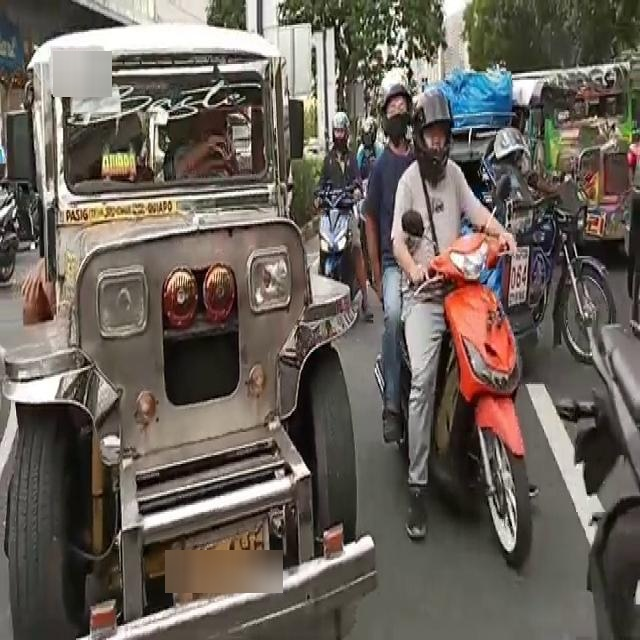jeepney: (24, 50, 369, 640), (534, 75, 640, 245)
motorcycle: (376, 106, 527, 548), (588, 352, 640, 640), (319, 117, 369, 339)
